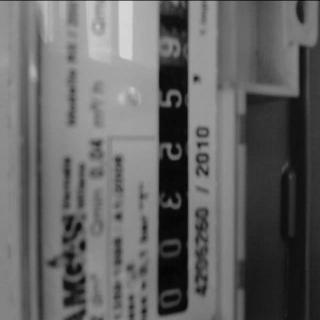1: (160, 286, 185, 315), (160, 235, 184, 265)
4: (160, 186, 185, 213)
6: (160, 134, 185, 167), (159, 85, 184, 112)
:: (158, 33, 182, 62)
